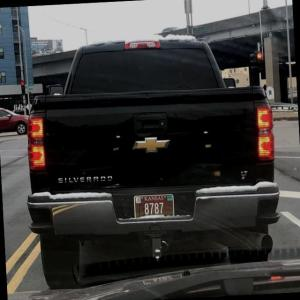Plate: (134, 194, 174, 219)
